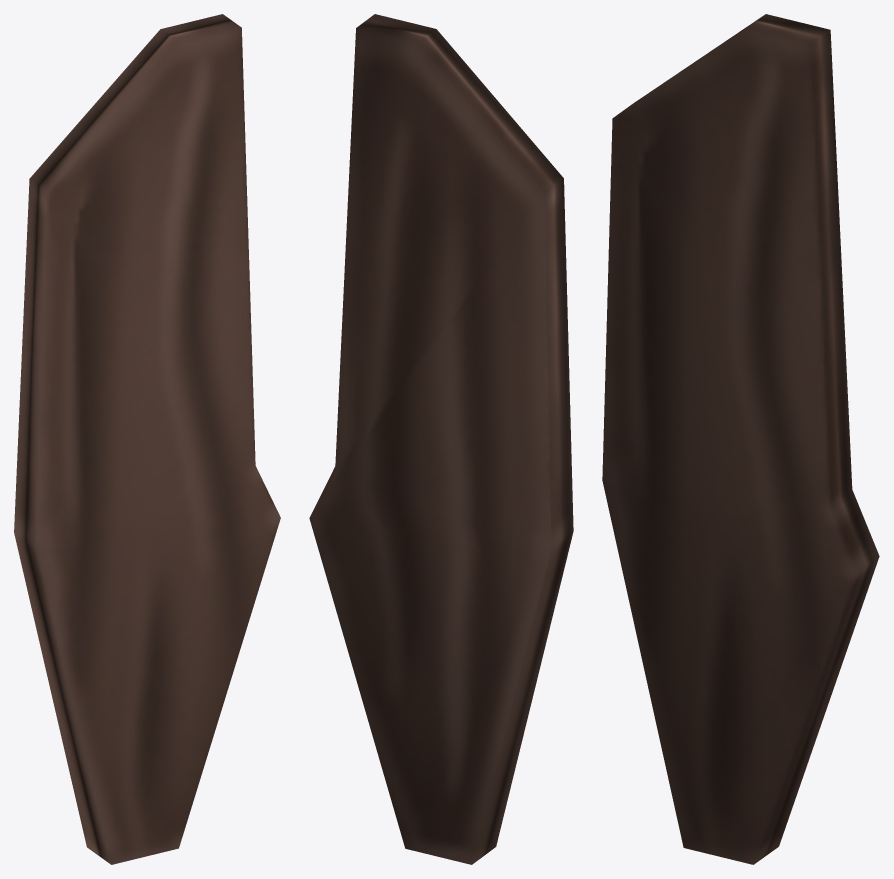
Rendered from particle_Wood01.fbx.
The picture shows the model from 3 angles, left to right: view 1: azimuth 30°, elevation 25°; view 2: azimuth 150°, elevation 25°; view 3: azimuth 330°, elevation 25°; orthographic projection. The views are drawn at different scales.
Parts seen in each view (by area): view 1: particle_Wood01; view 2: particle_Wood01; view 3: particle_Wood01.
Boxes of the visible parts, box(x1,y1,x2,y2) form: particle_Wood01: box(14, 14, 280, 864); particle_Wood01: box(309, 14, 573, 864); particle_Wood01: box(602, 14, 879, 864).
Bounding box in the file's own units: 8.8 × 27.83 × 1.77.
